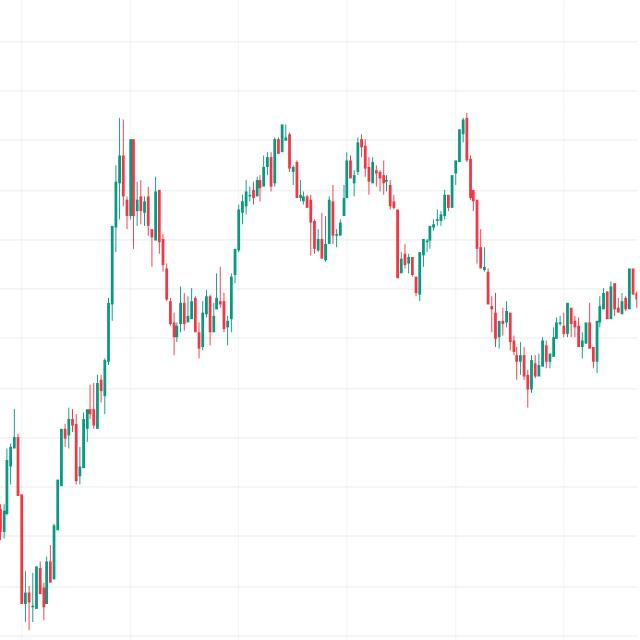Triple-Bottom: (157, 278, 247, 358)
Triple-Top: (222, 96, 492, 288)
